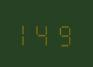four: (37, 19, 54, 47)
nine: (55, 20, 72, 47)
one: (18, 19, 35, 46)
